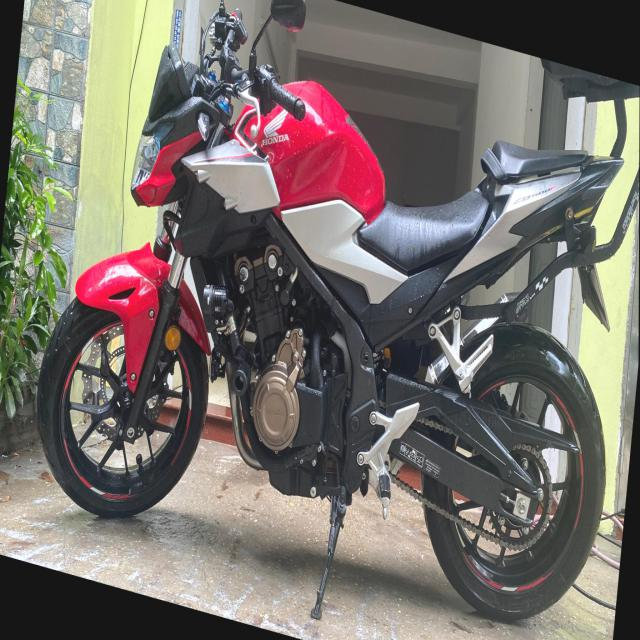CB500F: (25, 4, 638, 639)
